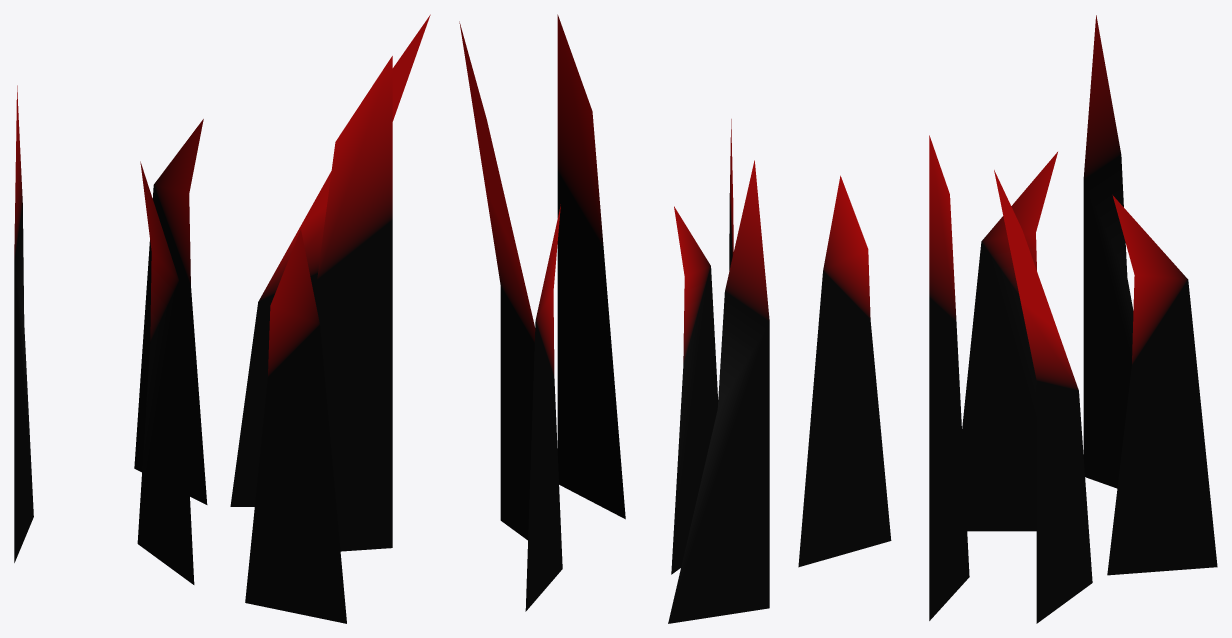
The model's file is Grass.fbx.
3 views of the same model, side by side, from view 1: azimuth 30°, elevation 25°; view 2: azimuth 150°, elevation 25°; view 3: azimuth 270°, elevation 25° (orthographic). The views are drawn at different scales.
Visible parts, largest first — view 1: Plane; view 2: Plane; view 3: Plane.
Boxes of the visible parts, x1,y1,x2,y2 form: Plane: [14, 14, 430, 623]; Plane: [459, 14, 769, 623]; Plane: [798, 15, 1217, 623].
Bounding box in the file's own units: 0.5685 × 0.7215 × 0.5634.
